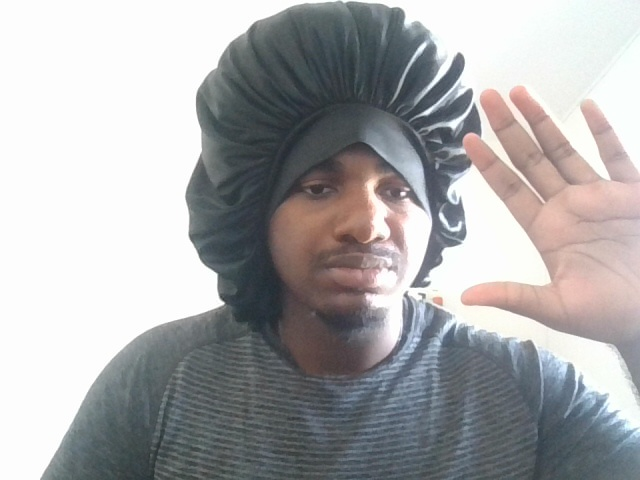Hello: (455, 81, 640, 356)
